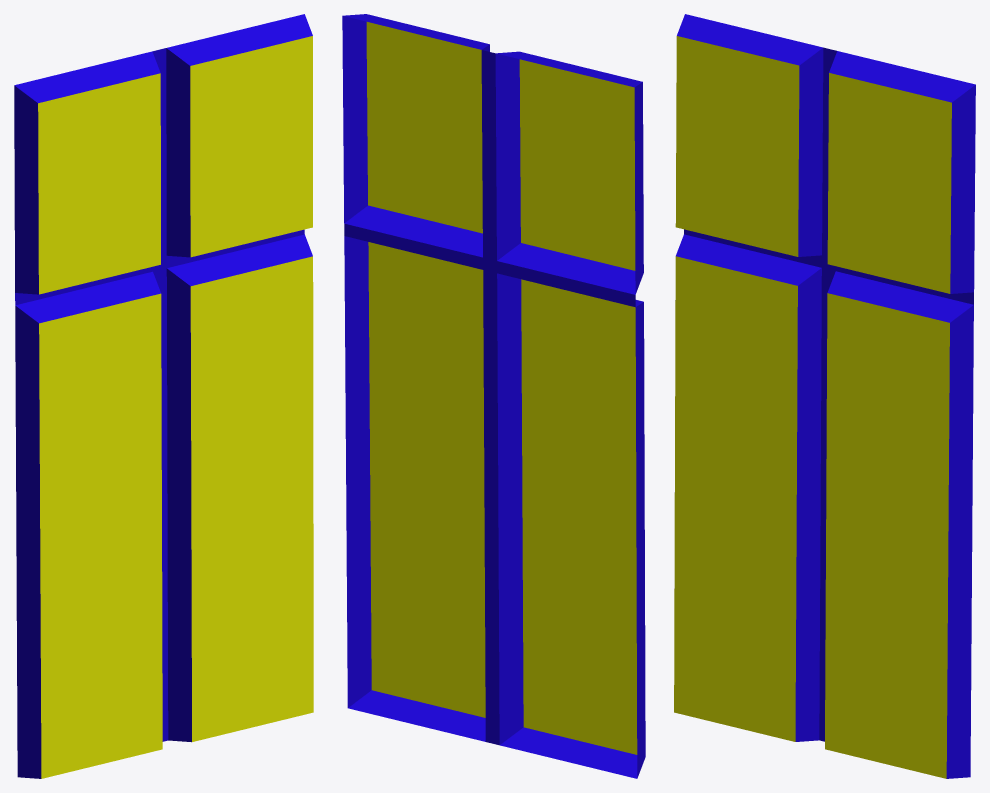
Rendered from window 02.fbx.
3 views of the same model, side by side, from view 1: azimuth 30°, elevation 25°; view 2: azimuth 150°, elevation 25°; view 3: azimuth 330°, elevation 25° (orthographic).
Parts seen in each view (by area): view 1: Rectangular Window Design 01.003; view 2: Rectangular Window Design 01.003; view 3: Rectangular Window Design 01.003.
Boxes of the visible parts, x1,y1,x2,y2 form: Rectangular Window Design 01.003: (14,14,313,778); Rectangular Window Design 01.003: (342,14,645,778); Rectangular Window Design 01.003: (674,14,975,778).
Bounding box in the file's own units: 73.27 × 166 × 8.34.
